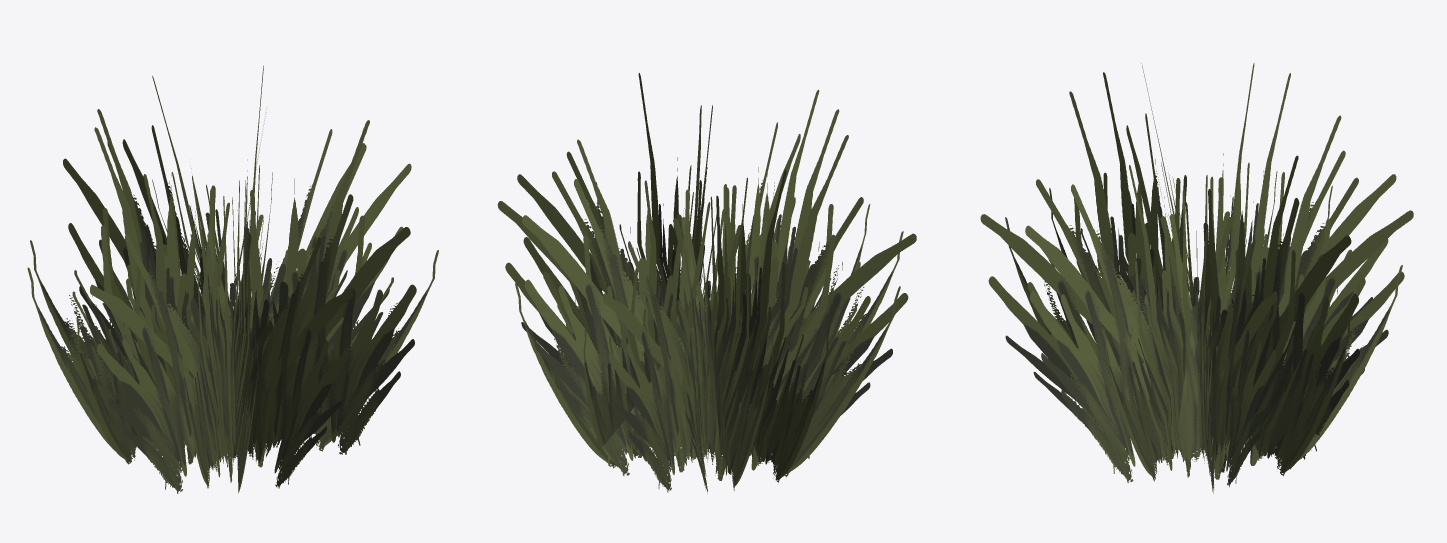
File: shared_green_grass_04.fbx
3 views of the same model, side by side, from view 1: azimuth 30°, elevation 25°; view 2: azimuth 150°, elevation 25°; view 3: azimuth 270°, elevation 25° (orthographic). The views are drawn at different scales.
Visible parts, largest first — view 1: shared_green_grass_04; view 2: shared_green_grass_04; view 3: shared_green_grass_04.
Boxes of the visible parts, x1=… form: shared_green_grass_04: x1=27, y1=66, x2=438, y2=493; shared_green_grass_04: x1=497, y1=73, x2=916, y2=492; shared_green_grass_04: x1=980, y1=63, x2=1413, y2=493.
Size of the model in its own units: 0.8774 by 0.8302 by 0.9.
